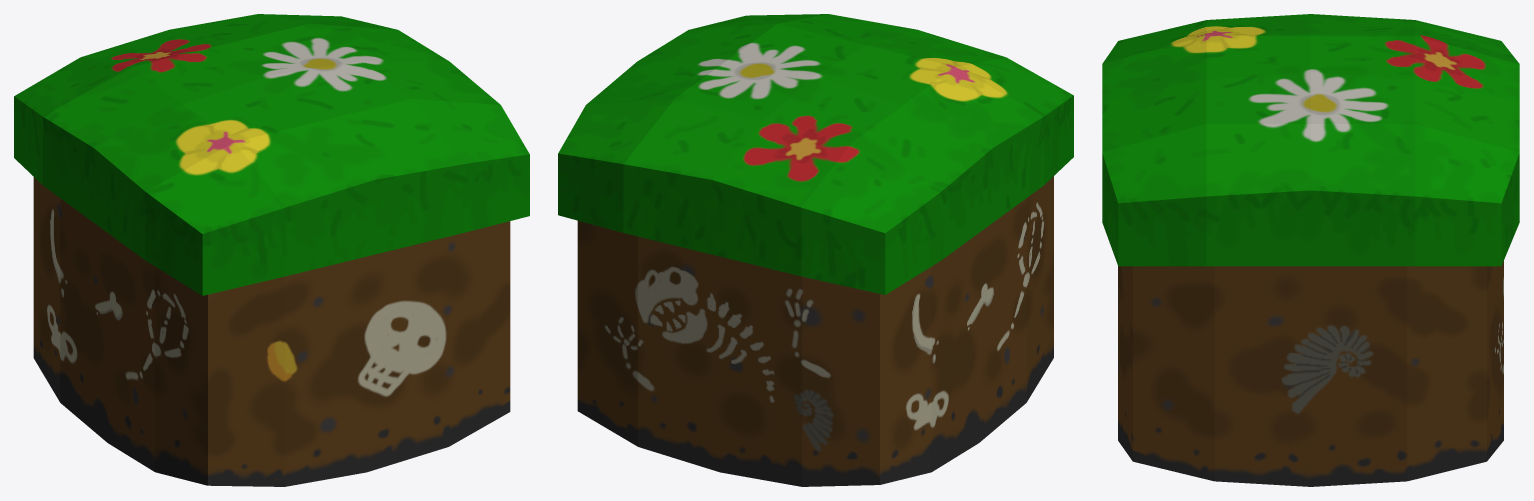
The model's file is Fossil.fbx.
The picture shows the model from 3 angles, left to right: view 1: azimuth 30°, elevation 25°; view 2: azimuth 150°, elevation 25°; view 3: azimuth 270°, elevation 25°; orthographic projection.
Visible parts, largest first — view 1: Fossil; view 2: Fossil; view 3: Fossil.
Boxes of the visible parts, x1,y1,x2,y2 form: Fossil: [14, 14, 529, 486]; Fossil: [558, 14, 1073, 486]; Fossil: [1102, 14, 1519, 486].
Bounding box in the file's own units: 0.9801 × 0.9384 × 0.9801.
